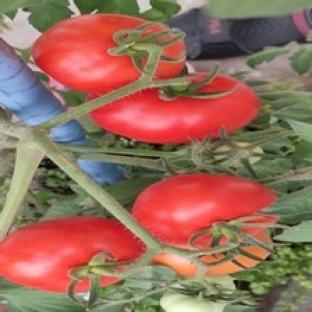Tomato: (90, 76, 260, 143), (0, 216, 144, 292), (133, 173, 277, 247), (33, 14, 146, 93), (161, 290, 227, 311), (201, 254, 259, 275)
